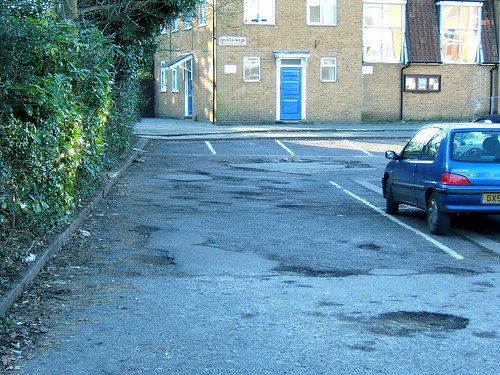building: (143, 1, 500, 120)
car: (388, 116, 500, 228)
vegetation: (2, 1, 166, 275)
